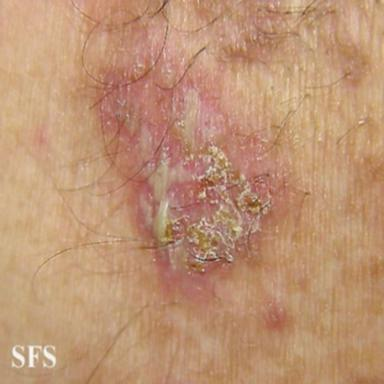Hailey-Hailey-Disease: (88, 0, 348, 300)
